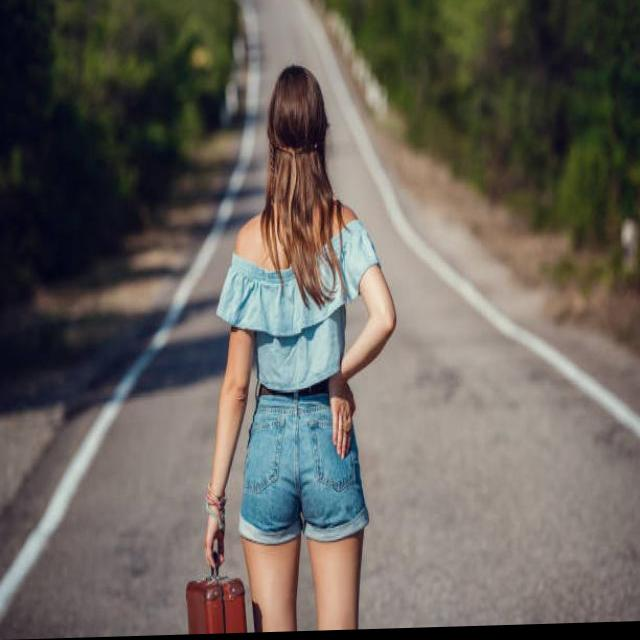no helmet: (263, 64, 337, 210)
